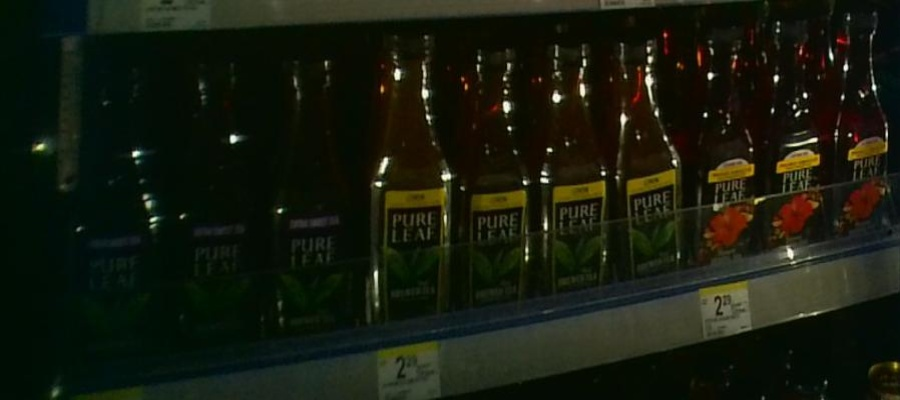bottle: (72, 67, 172, 383), (363, 38, 457, 333), (172, 63, 263, 358), (267, 49, 356, 349), (461, 40, 533, 320), (539, 40, 611, 305), (614, 39, 688, 294), (690, 35, 761, 280), (762, 18, 825, 257), (830, 7, 892, 247)
